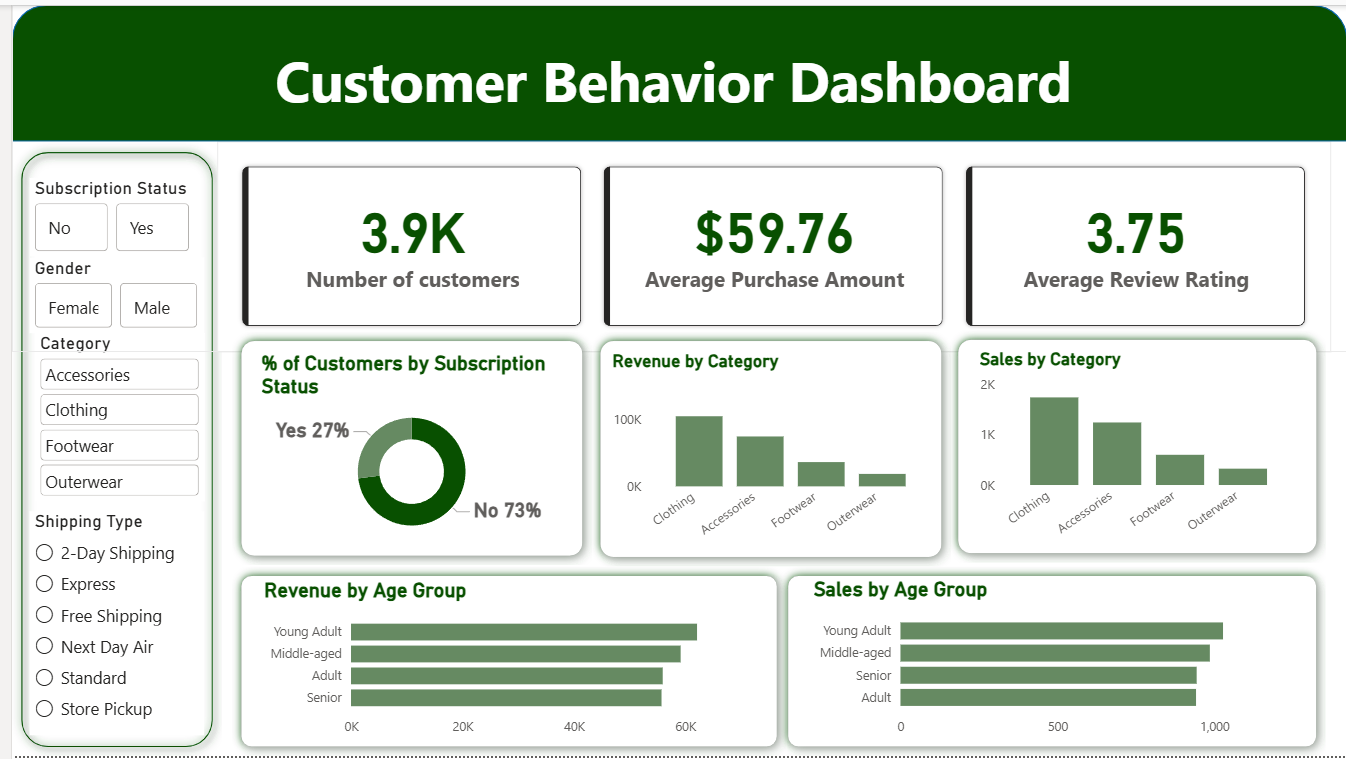

The page's visual inventory and layout, read from the dashboard file:
{"tool":"powerbi","page":{"name":"Page 1","canvas":[1280,720],"ordinal":0},"visuals":[{"type":"cardVisual","fields":{"Data":["public customer.Number of customers","public customer.Average Purchase Amount","public customer.Average Review Rating"]},"box":[196.2,131.2,1068.8,201.2],"z":0,"group":"g3"},{"type":"group","id":"g1","title":"Group 1","box":[735.7,538.6,524.3,181.4],"z":0},{"type":"shape","box":[735.7,538.6,524.3,181.4],"z":0,"group":"g1"},{"type":"shape","box":[0,0,1280.4,131],"z":1000,"group":"g3"},{"type":"group","id":"g2","title":"Group 2","box":[0,131.4,201.4,588.6],"z":1000},{"type":"clusteredBarChart","title":"Sales by Age Group","fields":{"Y":["CountNonNull(public customer.customer_id)"],"Category":["public customer.age_group"]},"box":[763.6,548.7,469.1,161.3],"z":1000,"group":"g1"},{"type":"group","id":"g3","title":"Group 3","box":[0,0,1280.4,332.5],"z":2000},{"type":"textbox","box":[0,29.6,1280.4,101.4],"z":2000,"group":"g3"},{"type":"group","id":"g4","title":"Group 4","box":[211.2,312.2,1048,226.6],"z":3000},{"type":"shape","box":[211.2,313.8,345,223.8],"z":3000,"group":"g4"},{"type":"donutChart","title":"% of Customers by Subscription Status","fields":{"Category":["public customer.subscription_status"],"Y":["CountNonNull(public customer.customer_id)"]},"box":[235,332.5,297.5,186.2],"z":4000,"group":"g4"},{"type":"group","id":"g5","title":"Group 5","box":[211.4,538.6,531.4,181.4],"z":4000},{"type":"shape","box":[556.2,313.8,345,225],"z":5000,"group":"g4"},{"type":"shape","box":[898.2,312.2,361.4,222.9],"z":6000,"group":"g6"},{"type":"clusteredColumnChart","title":" Revenue by Category","fields":{"Y":["Sum(public customer.purchase_amount)"],"Category":["public customer.category"]},"box":[571.2,331.3,316.2,190],"z":7000,"group":"g4"},{"type":"clusteredColumnChart","title":"Sales by Category","fields":{"Y":["CountNonNull(public customer.customer_id)"],"Category":["public customer.category"]},"box":[922.5,330.6,311.4,190],"z":8000,"group":"g6"},{"type":"shape","box":[0,131.4,201.4,588.6],"z":9000,"group":"g2"},{"type":"advancedSlicerVisual","fields":{"Values":["public customer.subscription_status"]},"box":[17.1,165.7,158.6,75.7],"z":10000,"group":"g2"},{"type":"advancedSlicerVisual","fields":{"Values":["public customer.gender"]},"box":[17.3,241.8,167.3,72.7],"z":11000,"group":"g2"},{"type":"advancedSlicerVisual","title":"Category","fields":{"Values":["public customer.category"]},"box":[21.4,314.3,162.9,161.4],"z":12000,"group":"g2"},{"type":"listSlicer","fields":{"Values":["public customer.shipping_type"]},"box":[17.3,485.4,167.3,214.5],"z":13000,"group":"g2"},{"type":"shape","box":[211.4,538.6,531.4,181.4],"z":14000,"group":"g5"},{"type":"clusteredBarChart","title":"Revenue by Age Group","fields":{"Y":["Sum(public customer.purchase_amount)"],"Category":["public customer.age_group"]},"box":[237.8,550,476.8,160.2],"z":15000,"group":"g5"},{"type":"group","id":"g6","title":"Group 6","box":[898.2,312.2,360.9,222.7],"z":15008,"group":"g4"}]}

Visuals, with their boxes in screenshot pixels (x1, y1, x2, y2), scaled from the page's 1280x720 canvas onto the 1346x759 screenshot:
cardVisual - public customer.Number of customers x public customer.Average Purchase Amount: 206:138:1330:350
"Group 1" group: 774:568:1325:758
shape: 774:568:1325:758
shape: 0:0:1345:138
"Group 2" group: 0:139:212:758
"Sales by Age Group" clusteredBarChart: 803:578:1296:748
"Group 3" group: 0:0:1345:351
textbox: 0:31:1345:138
"Group 4" group: 222:329:1324:568
shape: 222:331:585:567
"% of Customers by Subscription Status" donutChart: 247:351:560:547
"Group 5" group: 222:568:781:758
shape: 585:331:948:568
shape: 945:329:1325:564
" Revenue by Category" clusteredColumnChart: 601:349:933:550
"Sales by Category" clusteredColumnChart: 970:349:1298:549
shape: 0:139:212:758
advancedSlicerVisual - public customer.subscription_status: 18:175:185:254
advancedSlicerVisual - public customer.gender: 18:255:194:332
"Category" advancedSlicerVisual: 23:331:194:501
listSlicer - public customer.shipping_type: 18:512:194:738
shape: 222:568:781:758
"Revenue by Age Group" clusteredBarChart: 250:580:751:749
"Group 6" group: 945:329:1324:564
